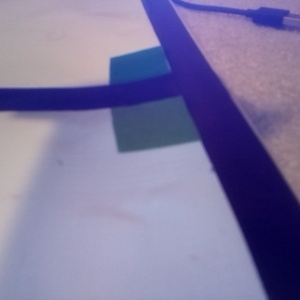bottom_left: (111, 86, 226, 153), (110, 45, 197, 95)
